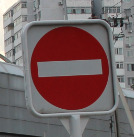no_entry: (20, 18, 119, 117)
